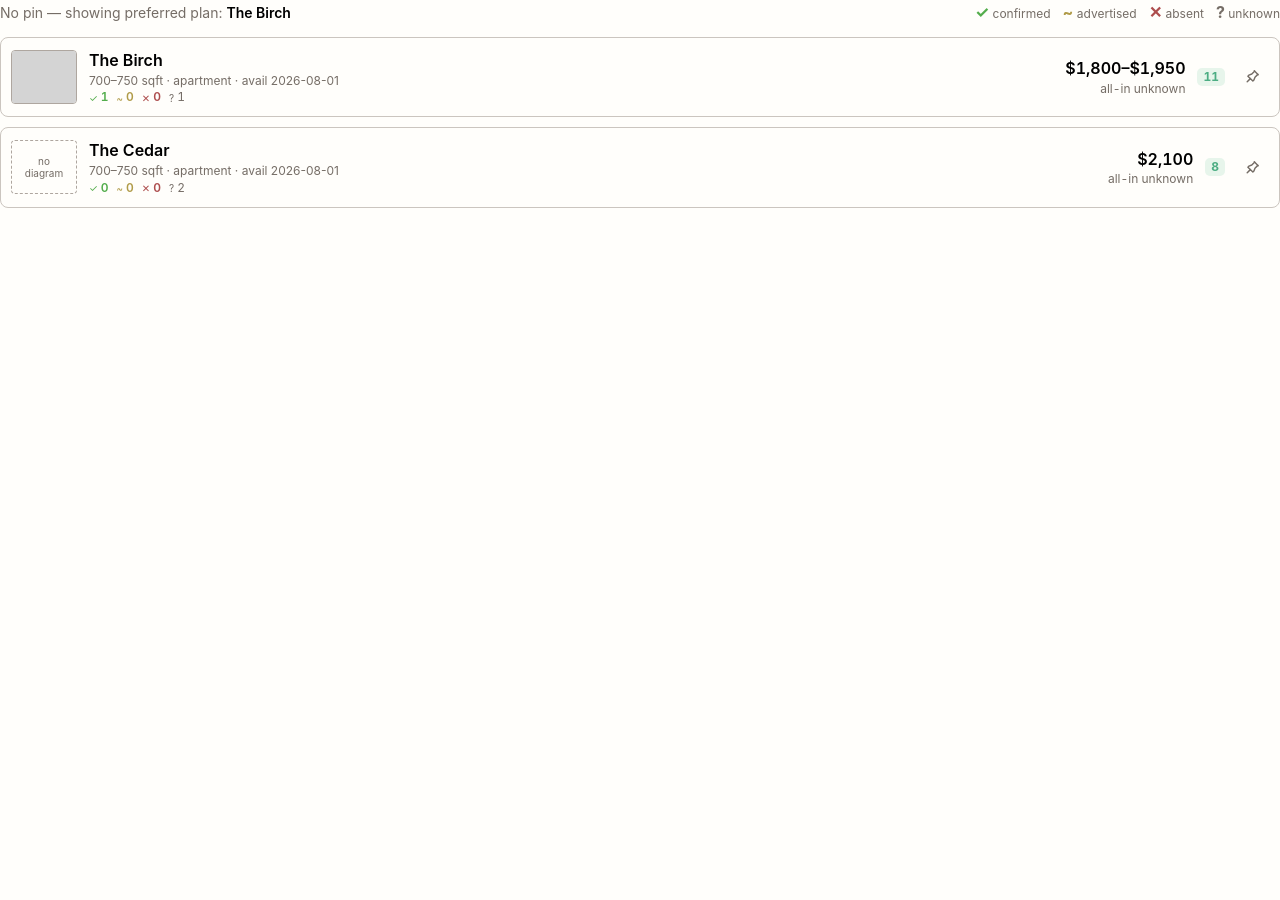
Test: FloorPlanList — detail modal › pins from the modal footer and reflects it on the card
Click the button named "Open The Cedar floor plan detail" at point(640, 167), box x1=1 y1=128 x2=1279 y2=207
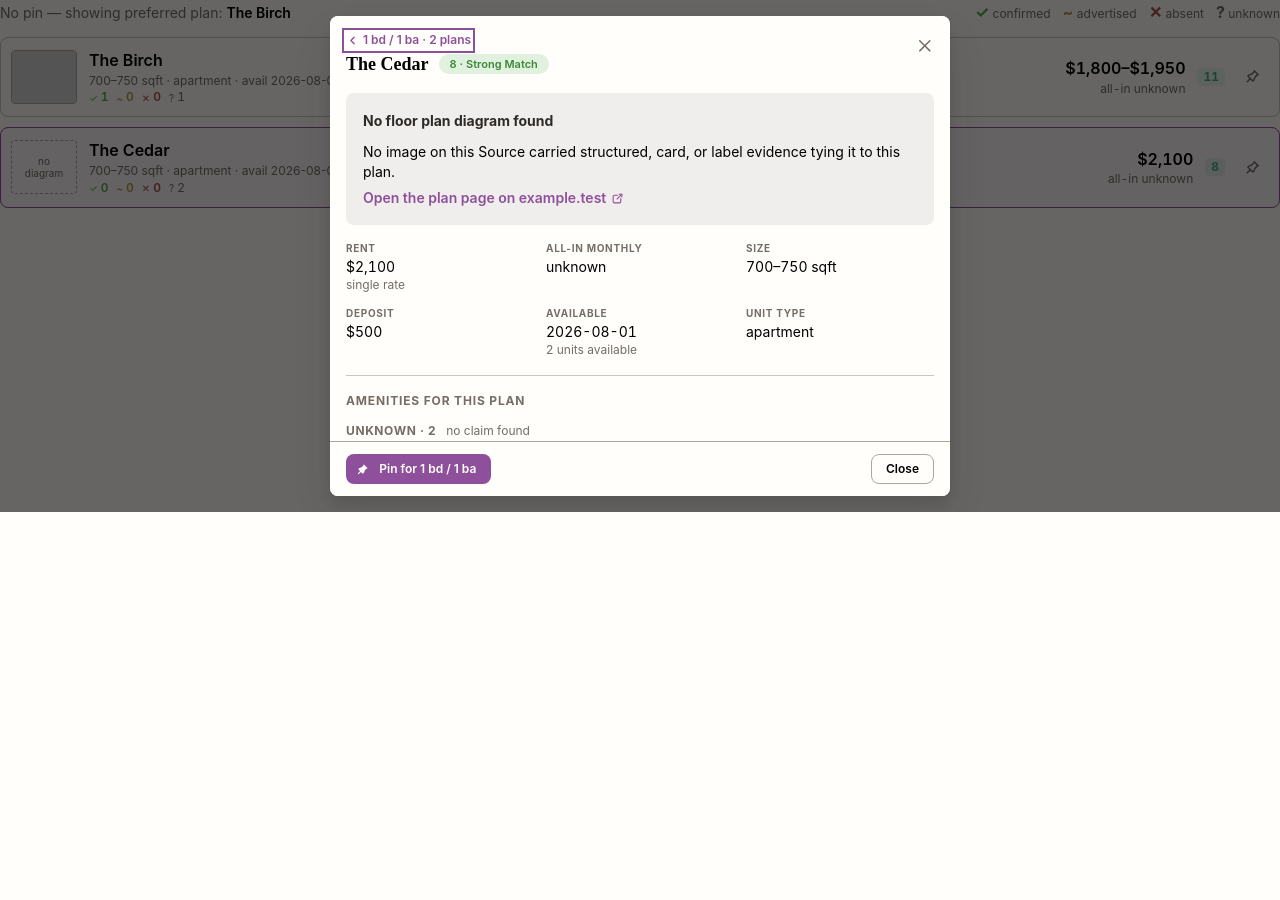
Click the button "Pin for 1 bd / 1 ba" at point(419, 469), box x1=346 y1=454 x2=491 y2=484
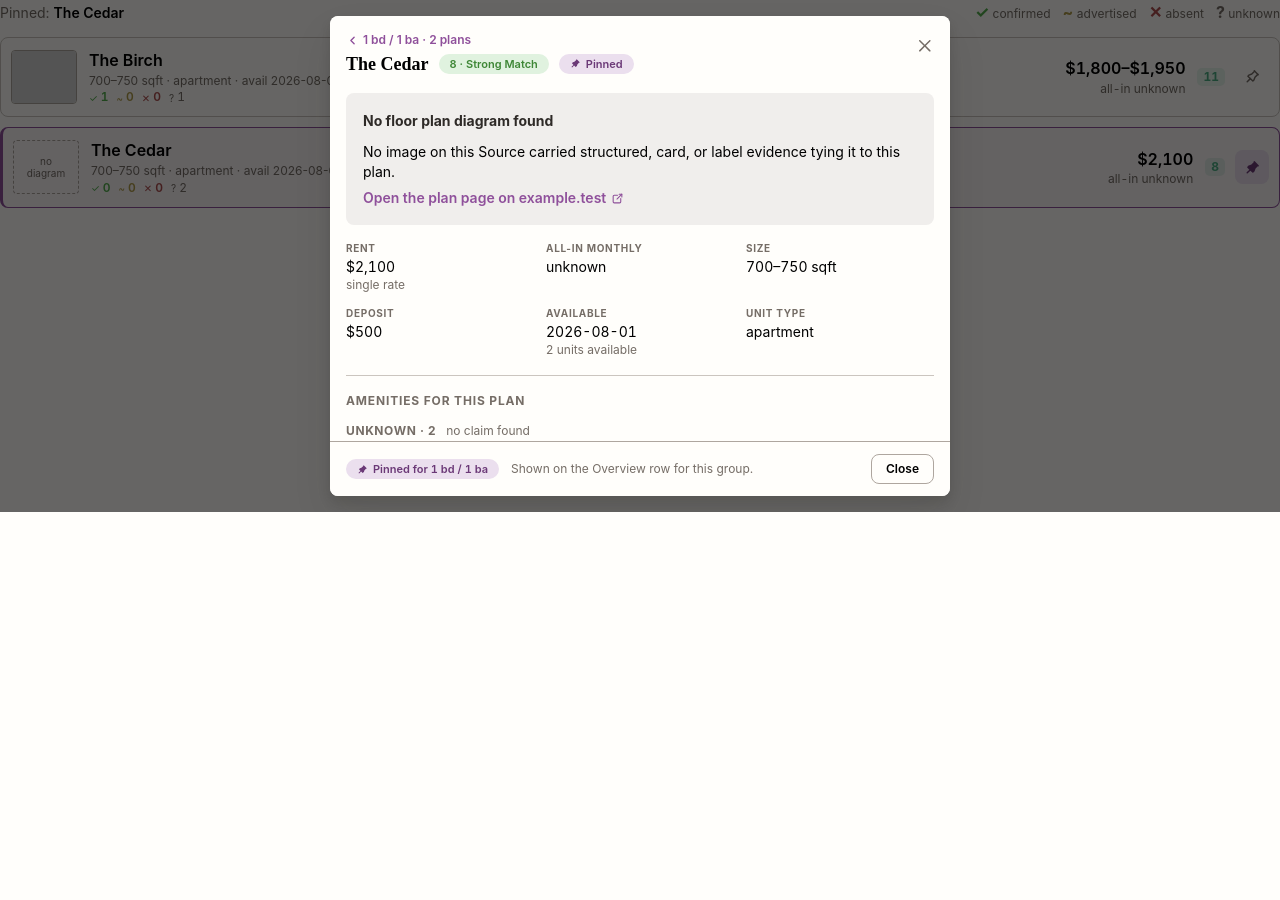
Result: the text "Pinned for 1 bd / 1 ba" is shown at x1=373 y1=460 x2=488 y2=478
